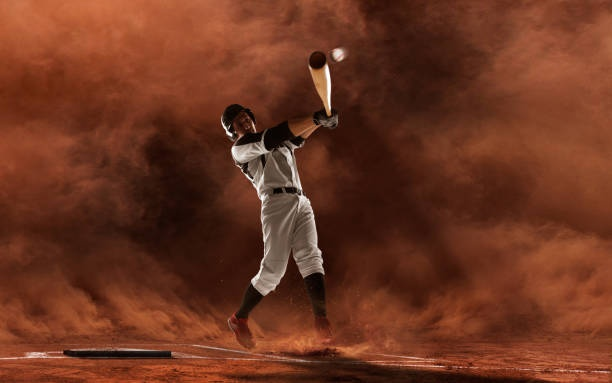bita: (308, 48, 343, 123)
